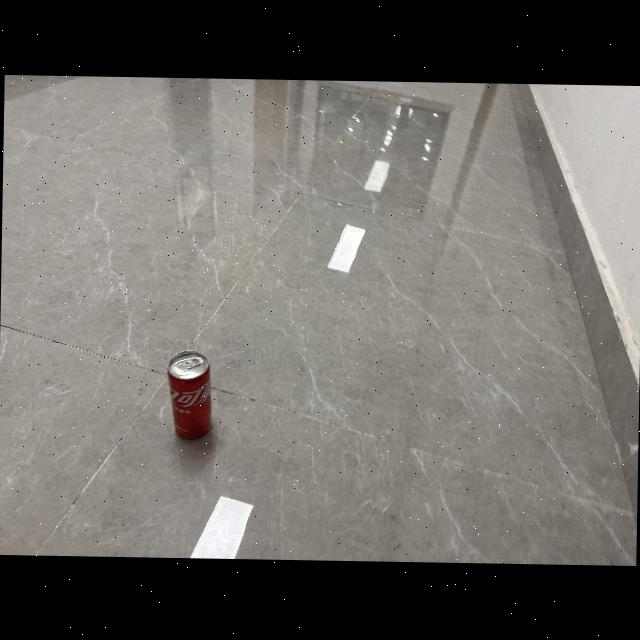Cola: (164, 346, 222, 446)
